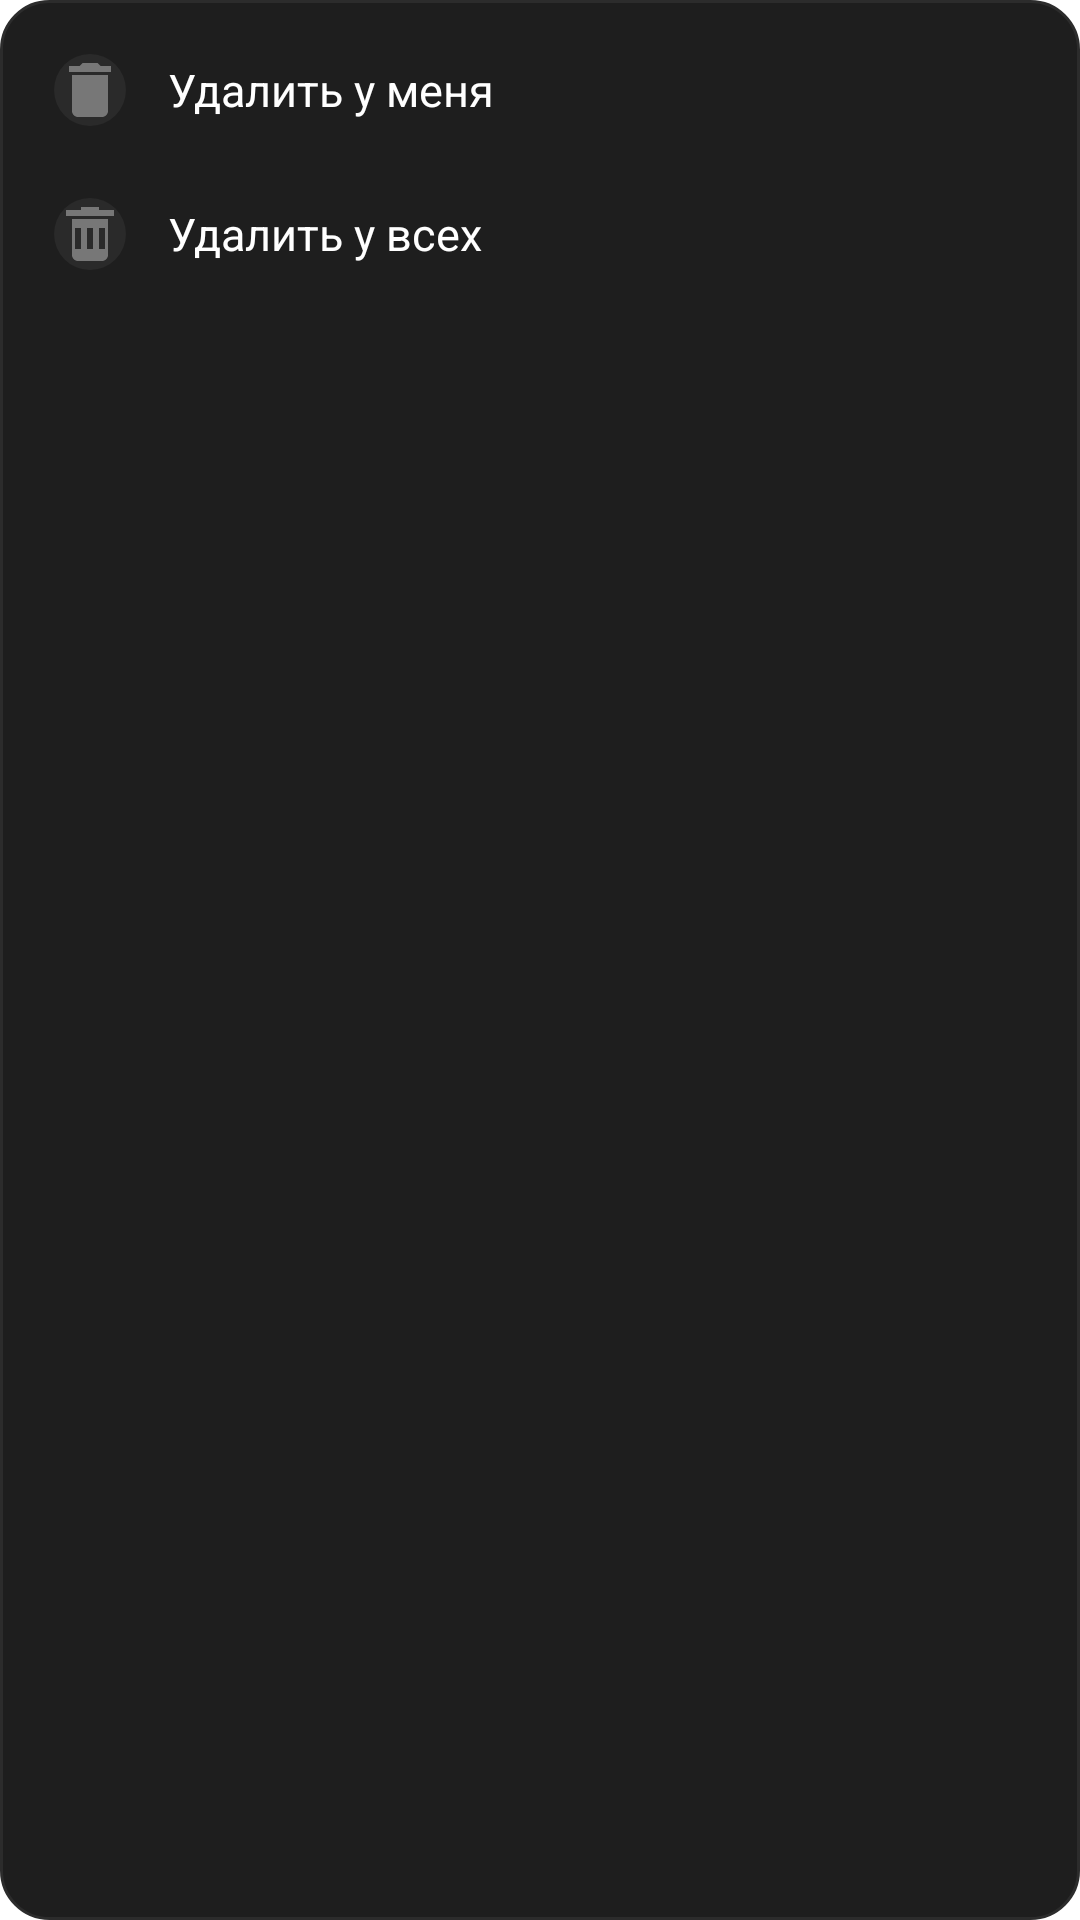

Locate icon controls on the screen. Image size 1080*1920, boxes as (x1, y1, x2, y2).
delete all: (66, 207, 114, 261)
